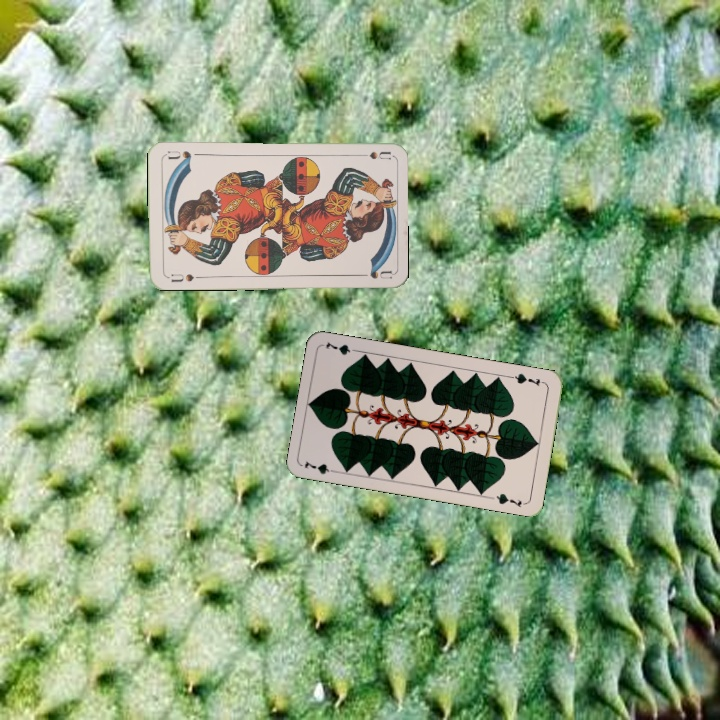G7: (300, 457, 341, 477), (507, 369, 547, 388)
SU: (163, 270, 203, 285), (351, 148, 391, 162)
